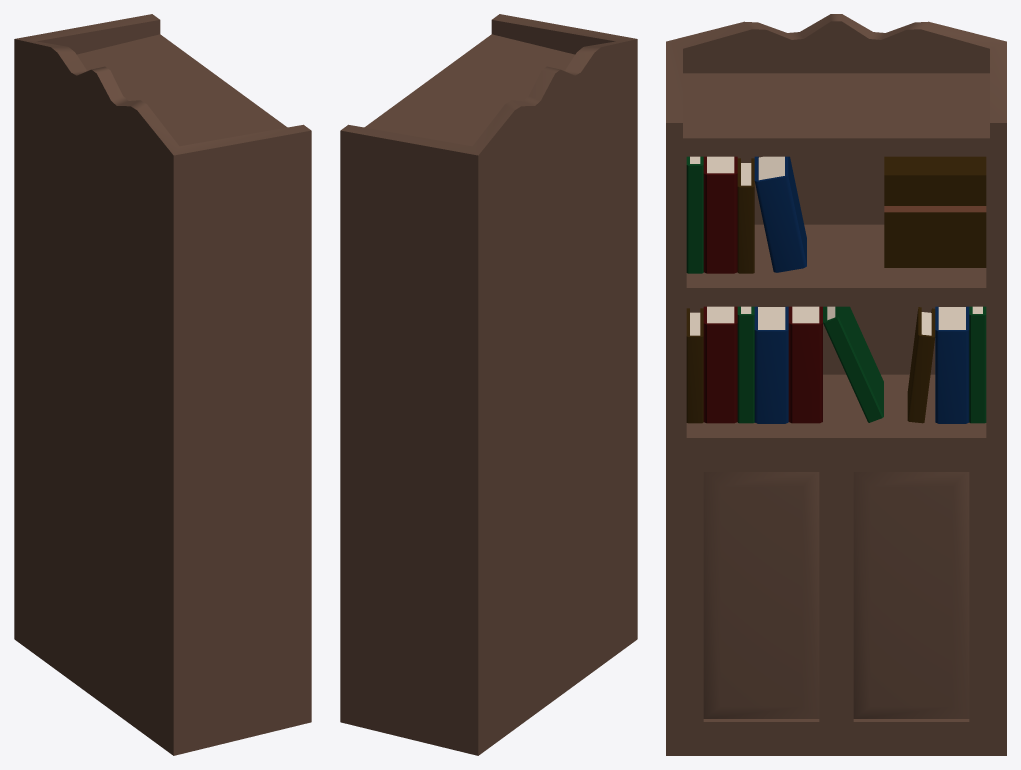
3 views of the same model, side by side, from view 1: azimuth 30°, elevation 25°; view 2: azimuth 150°, elevation 25°; view 3: azimuth 270°, elevation 25° (orthographic). The views are drawn at different scales.
Visible parts, largest first — view 1: Cabinet_0.5x1x2_proxy.001_0; view 2: Cabinet_0.5x1x2_proxy.001_0; view 3: Cabinet_0.5x1x2_proxy.001_0, Cabinet_0.5x1x2_proxy.001_1, Cabinet_0.5x1x2_proxy.001_6, Cabinet_0.5x1x2_proxy.001_3, Cabinet_0.5x1x2_proxy.001_5, Cabinet_0.5x1x2_proxy.001_4, Cabinet_0.5x1x2_proxy.001_2.
Boxes of the visible parts, x1,y1,x2,y2 form: Cabinet_0.5x1x2_proxy.001_0: (14, 14, 311, 755); Cabinet_0.5x1x2_proxy.001_0: (340, 14, 637, 755); Cabinet_0.5x1x2_proxy.001_0: (666, 14, 1006, 755); Cabinet_0.5x1x2_proxy.001_1: (686, 156, 986, 423); Cabinet_0.5x1x2_proxy.001_6: (703, 156, 822, 423); Cabinet_0.5x1x2_proxy.001_3: (754, 156, 969, 423); Cabinet_0.5x1x2_proxy.001_5: (686, 156, 986, 423); Cabinet_0.5x1x2_proxy.001_4: (690, 156, 982, 335); Cabinet_0.5x1x2_proxy.001_2: (884, 206, 986, 212).
Size of the model in its own units: 0.5 by 2.17 by 1.
